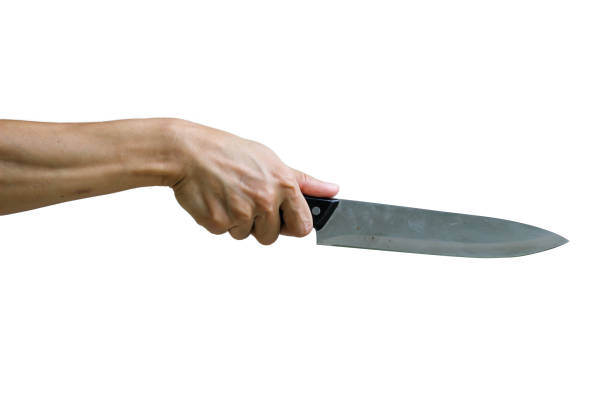knife: (302, 194, 575, 259)
